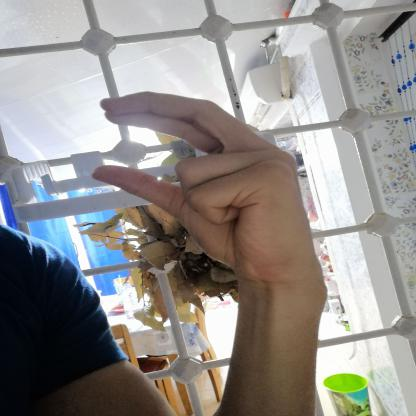DHELL: (78, 80, 333, 292)
